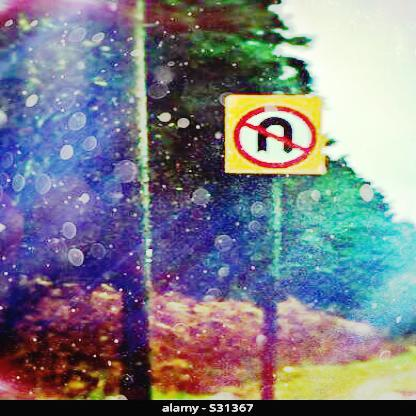No U-turn: (221, 98, 326, 171)
